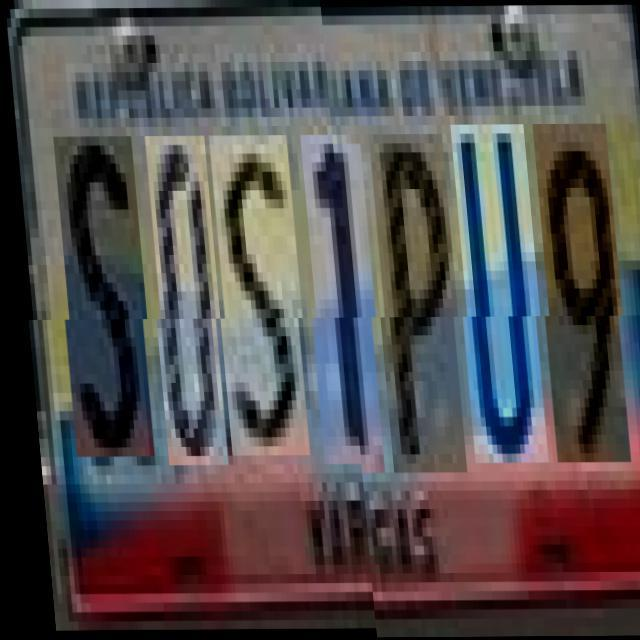0: (142, 146, 225, 474)
1: (298, 144, 380, 473)
9: (530, 124, 627, 463)
P: (366, 134, 463, 473)
S: (52, 146, 152, 466), (207, 145, 307, 465)
U: (448, 124, 545, 463)
